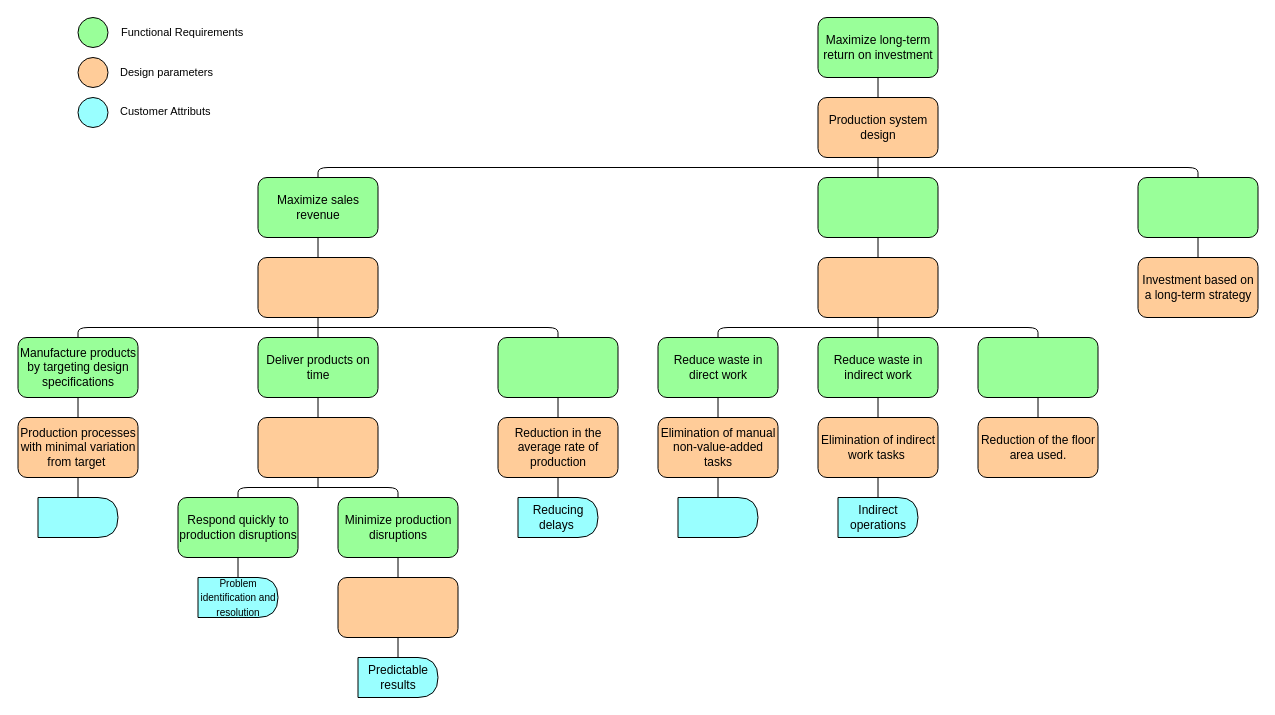
Some shapes in this 1275 by 715 pixel diagram are drawn without their labels. The centre of each missing label's shape, as x and y in pixels:
"Direct operations" goes at (x=717, y=517).
"Eliminate non-value-added cost sources" goes at (x=877, y=287).
"Maximize infrastructure costs" goes at (x=1037, y=367).
"Minimize investments throughout the life cycle of the production system" goes at (x=1197, y=207).
"Minimize production costs" goes at (x=877, y=207).
"Predictable production resources (operators, equipment, info)" goes at (x=397, y=607).
"Produce to maximize customer satisfaction" goes at (x=317, y=287).
"Quality" goes at (x=77, y=517).
"Reduced rate variation" goes at (x=317, y=447).
"Respect customer cycle times" goes at (x=557, y=367).
